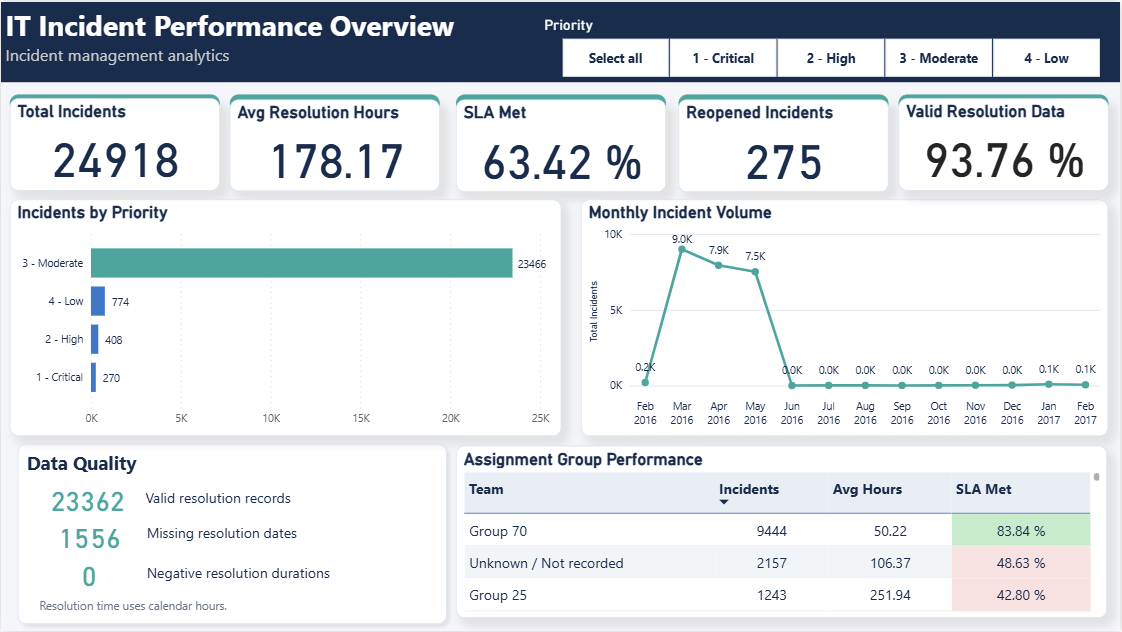

What the dashboard file says about the page in this screenshot:
{"tool":"powerbi","page":{"name":"Incident Overview","canvas":[1280,720],"ordinal":0},"visuals":[{"type":"shape","box":[10,508,509,197],"z":0},{"type":"shape","box":[260.8,105,240,20],"z":1000},{"type":"shape","box":[520,105,240,20],"z":2000},{"type":"shape","box":[774.2,105,240,20],"z":3000},{"type":"shape","box":[1025.8,105,240,20],"z":4000},{"type":"shape","box":[10,105,240,20],"z":5000},{"type":"shape","box":[0,0,1280,91.7],"z":6000},{"type":"card","title":"Total Incidents","fields":{"Values":["Incidents.Total Incidents"]},"box":[10.6,110.6,240,105.6],"z":7000},{"type":"card","title":"Avg Resolution Hours","fields":{"Values":["Incidents.Avg Resolution Hours"]},"box":[260.8,110.8,240,105],"z":8000},{"type":"card","title":"SLA Met","fields":{"Values":["Incidents.SLA Met %"]},"box":[520,110.8,240,105.8],"z":9000},{"type":"clusteredBarChart","title":"Incidents by Priority","fields":{"Y":["Incidents.Total Incidents"],"Category":["Incidents.priority"]},"box":[10,225,630,270],"z":10000},{"type":"card","title":"Reopened Incidents","fields":{"Values":["Incidents.Reopened Incidents"]},"box":[774.2,110.8,240,105.8],"z":11000},{"type":"lineChart","title":"Monthly Incident Volume","fields":{"Y":["Incidents.Total Incidents"],"Category":["Incidents.Opened Month Label"]},"box":[662.5,225,602.5,270],"z":12000},{"type":"slicer","title":"Priority","fields":{"Values":["Incidents.priority"]},"box":[616.2,15.3,663.8,76.4],"z":13000},{"type":"tableEx","title":"Assignment Group Performance","fields":{"Values":["Incidents.Assignment Group Label","Incidents.Total Incidents","Incidents.Avg Resolution Hours","Incidents.SLA Met %"]},"box":[519.5,507.6,745.3,196.9],"z":14000},{"type":"card","title":"Valid Resolution Data","fields":{"Values":["Incidents.Resolution Data Completeness %"]},"box":[1025.8,110,240,105.8],"z":15000},{"type":"textbox","box":[0,0,616.2,91.7],"z":16000},{"type":"textbox","box":[23.8,507.5,301.2,41.2],"z":16001},{"type":"card","fields":{"Values":["Incidents.Valid Resolution Records"]},"box":[38.3,545,121.7,45],"z":16002},{"type":"textbox","box":[160,550,300,40],"z":16003},{"type":"textbox","box":[161.7,590,300,41.7],"z":16004},{"type":"textbox","box":[161.7,635,300,41.7],"z":16005},{"type":"card","fields":{"Values":["Incidents.Missing Resolution Dates"]},"box":[55,588.3,91.7,45],"z":16006},{"type":"card","fields":{"Values":["Incidents.Negative Resolution Durations"]},"box":[40,631.7,121.7,45],"z":16007},{"type":"textbox","box":[38.8,676.2,238.8,28.8],"z":16008}]}

Visuals, with their boxes in screenshot pixels (x1, y1, x2, y2), scaled from the page's 1280x720 canvas onto the 1122x632 screenshot:
shape: (9, 446, 455, 619)
shape: (229, 92, 439, 110)
shape: (456, 92, 666, 110)
shape: (679, 92, 889, 110)
shape: (899, 92, 1110, 110)
shape: (9, 92, 219, 110)
shape: (0, 0, 1121, 80)
"Total Incidents" card: (9, 97, 220, 190)
"Avg Resolution Hours" card: (229, 97, 439, 189)
"SLA Met" card: (456, 97, 666, 190)
"Incidents by Priority" clusteredBarChart: (9, 198, 561, 434)
"Reopened Incidents" card: (679, 97, 889, 190)
"Monthly Incident Volume" lineChart: (581, 198, 1109, 434)
"Priority" slicer: (540, 13, 1121, 80)
"Assignment Group Performance" tableEx: (455, 446, 1109, 618)
"Valid Resolution Data" card: (899, 97, 1110, 189)
textbox: (0, 0, 540, 80)
textbox: (21, 445, 285, 482)
card - Incidents.Valid Resolution Records: (34, 478, 140, 518)
textbox: (140, 483, 403, 518)
textbox: (142, 518, 405, 554)
textbox: (142, 557, 405, 594)
card - Incidents.Missing Resolution Dates: (48, 516, 129, 556)
card - Incidents.Negative Resolution Durations: (35, 554, 142, 594)
textbox: (34, 594, 243, 619)
